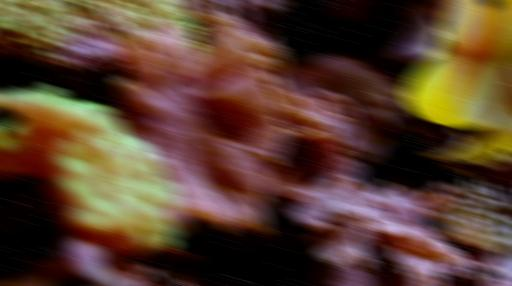Fish: (404, 0, 511, 161), (386, 4, 445, 61)
